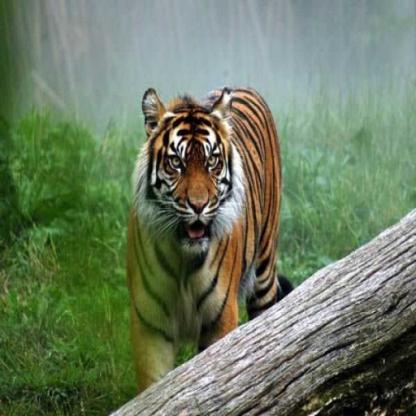Tiger: (96, 63, 297, 349)
